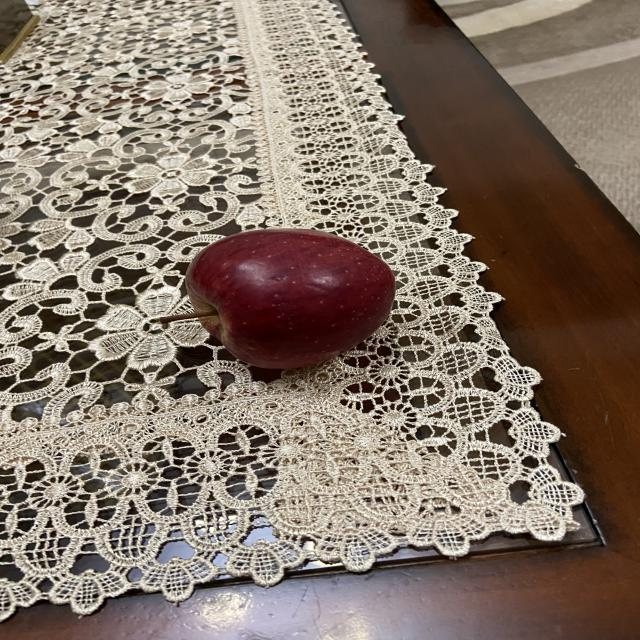apple: (149, 228, 398, 376)
